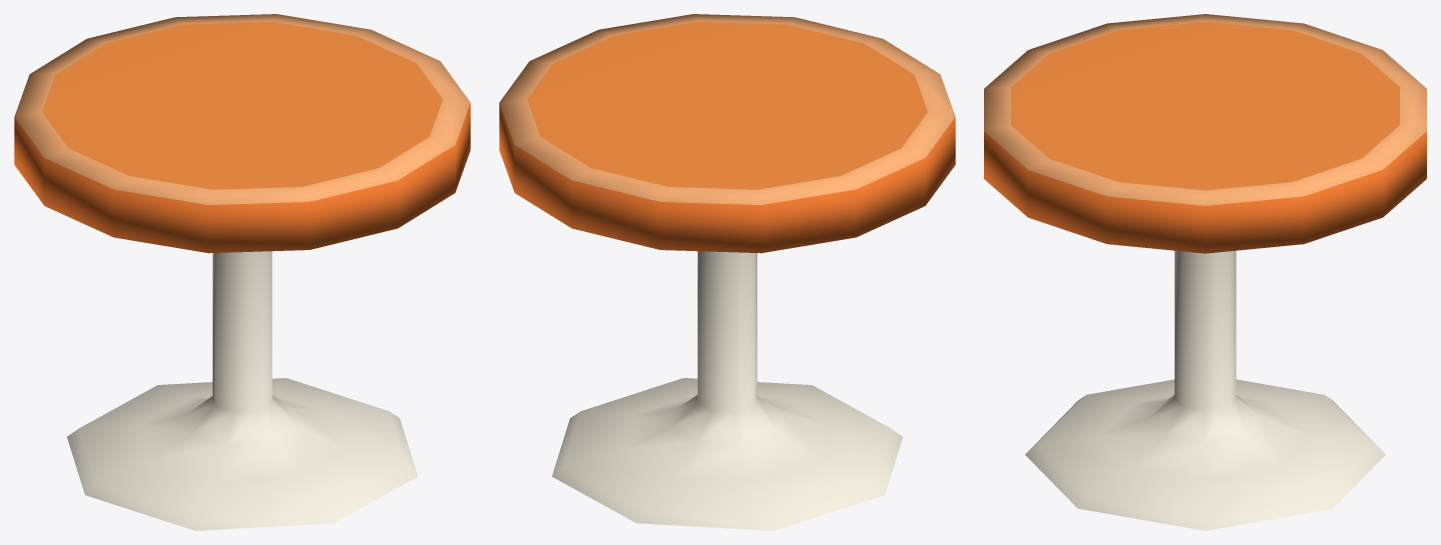
File: Store_Chair_03.FBX
The picture shows the model from 3 angles, left to right: view 1: azimuth 30°, elevation 25°; view 2: azimuth 150°, elevation 25°; view 3: azimuth 270°, elevation 25°; orthographic projection.
Visible parts, largest first — view 1: Cylinder003; view 2: Cylinder003; view 3: Cylinder003.
Part boxes in pixels (left/top/right/bottom): Cylinder003: left=14, top=14, right=470, bottom=530; Cylinder003: left=499, top=14, right=955, bottom=530; Cylinder003: left=984, top=14, right=1426, bottom=530.
Bounding box in the file's own units: 15.05 × 12.9 × 14.67.
